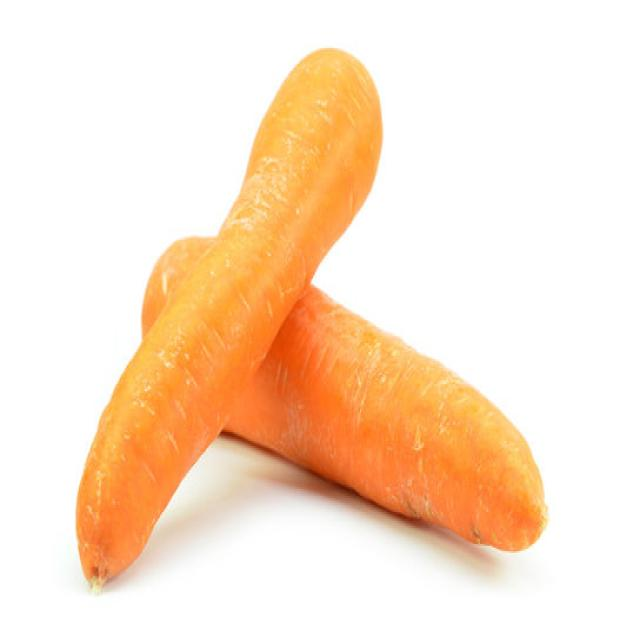Carrot: (74, 44, 384, 590), (140, 233, 548, 553)
